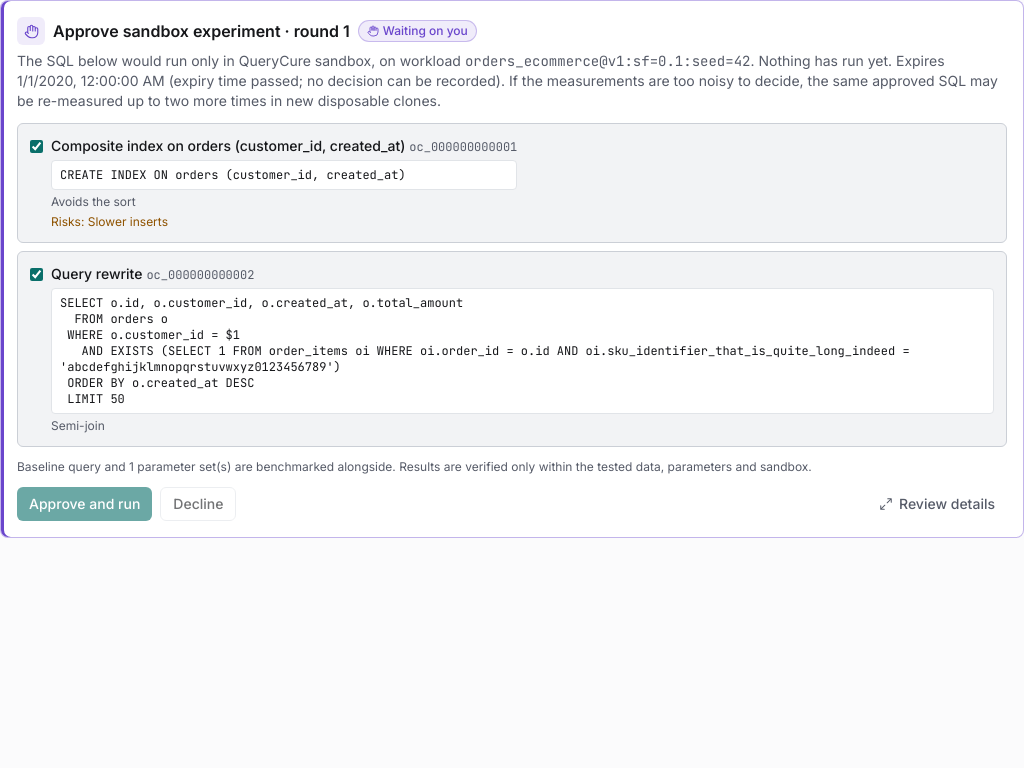
an expired request offers no decision
Click the button "Review details" at (937, 504), box [867,487,1007,521]
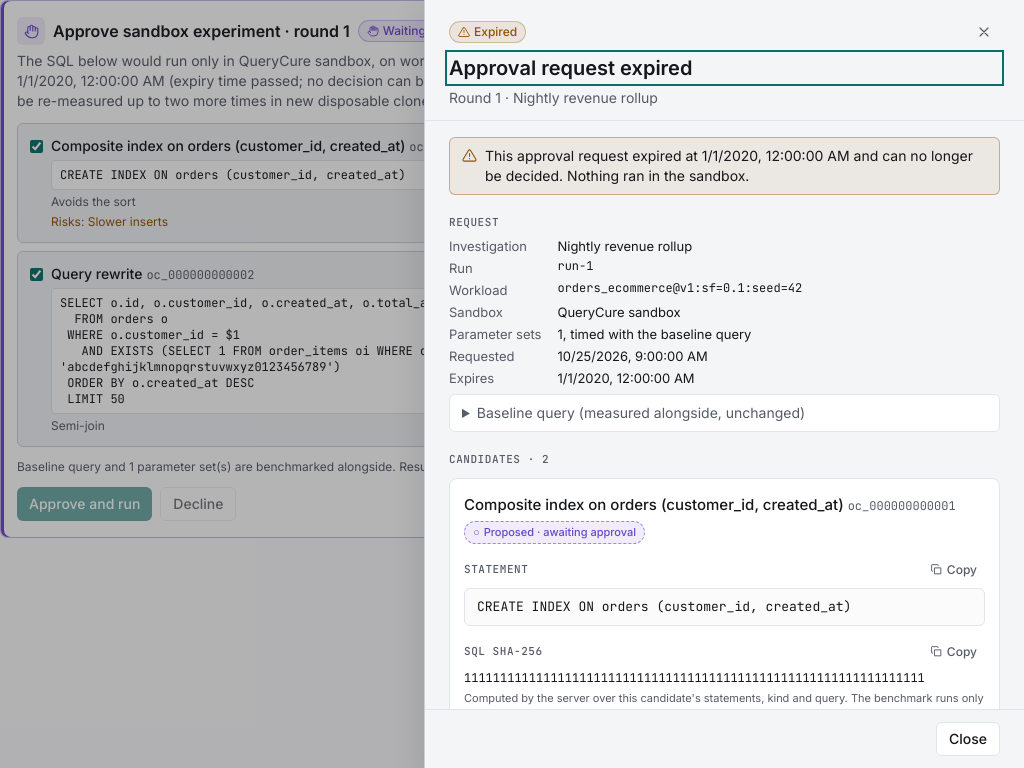
Result: the text "can no longer be decided. Nothing ran in the sandbox" is shown at [485,146,987,186]
